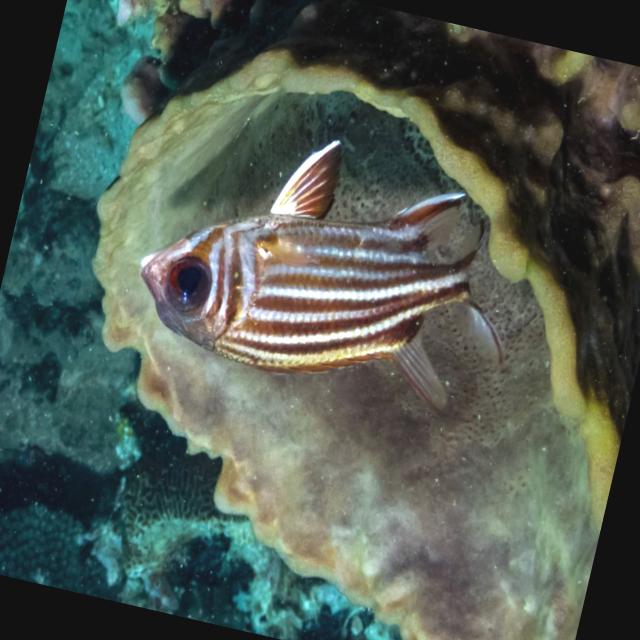Asker Baligi: (80, 54, 574, 477)
